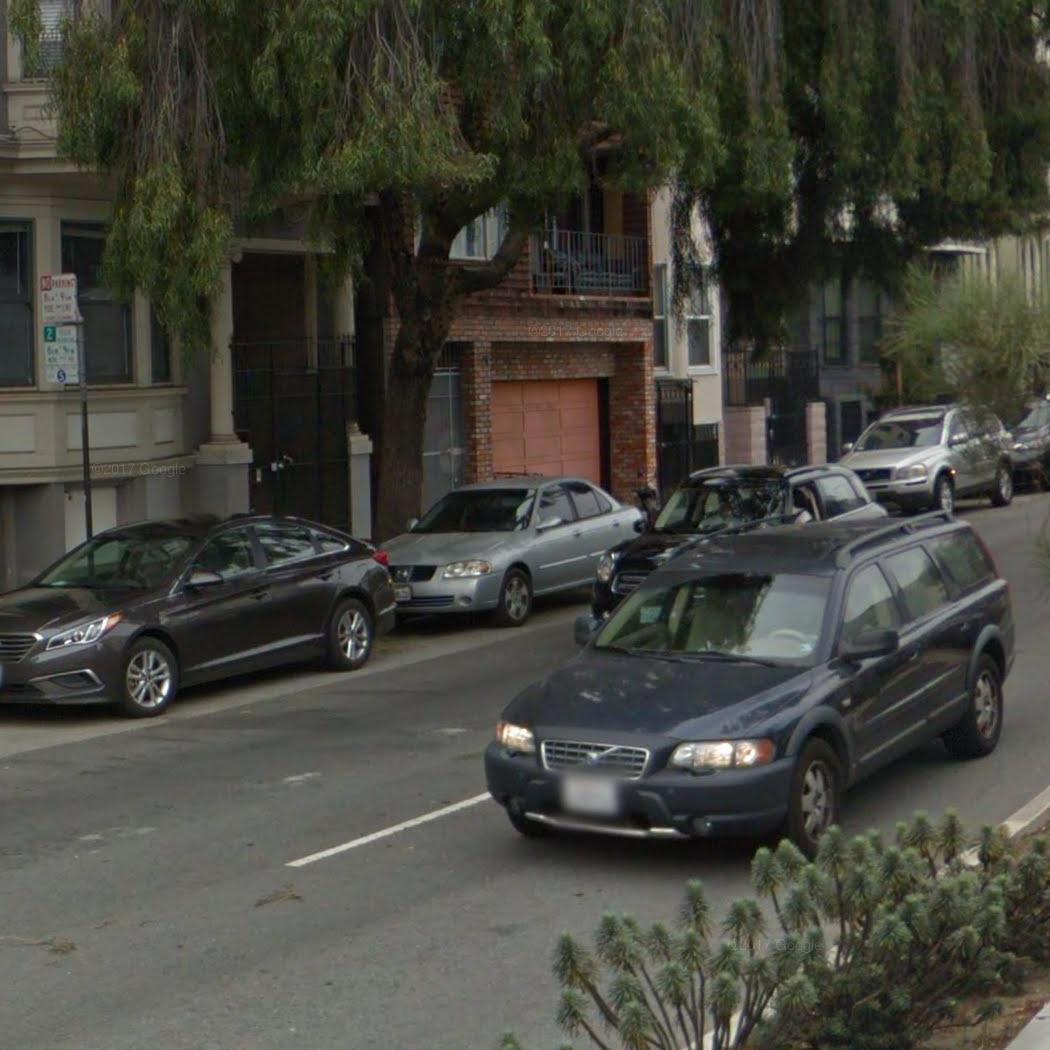2 Hour Parking: (40, 322, 81, 385)
No Parking: (37, 272, 80, 325)
